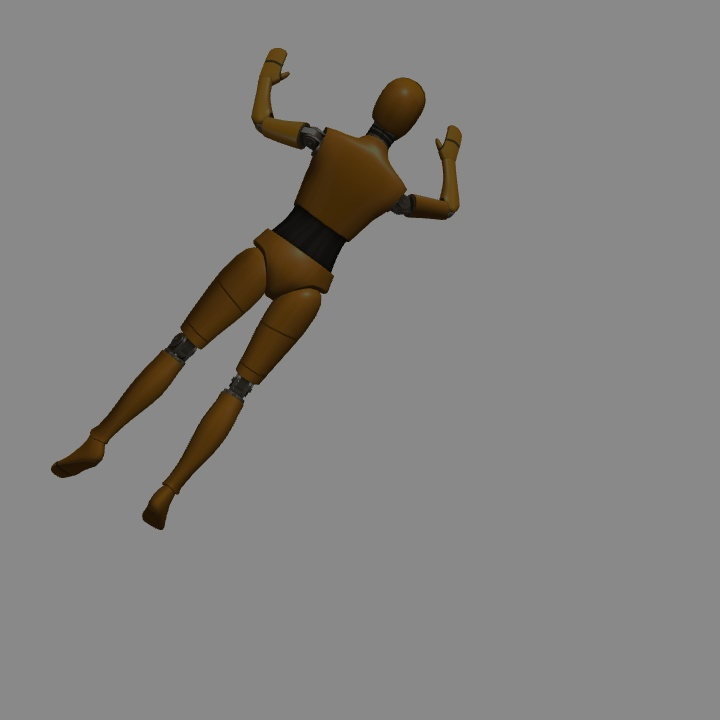victim: (53, 73, 461, 530)
